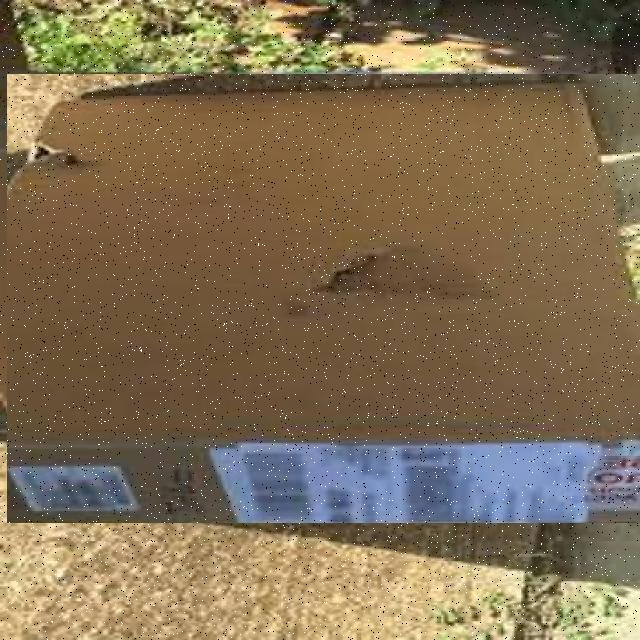defect: (7, 74, 640, 523)
